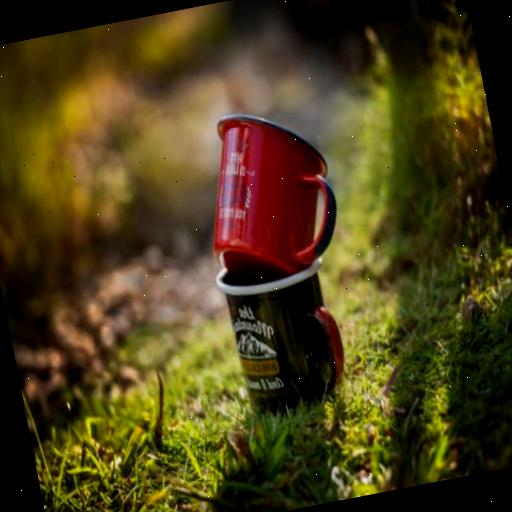cup: (188, 96, 350, 288)
